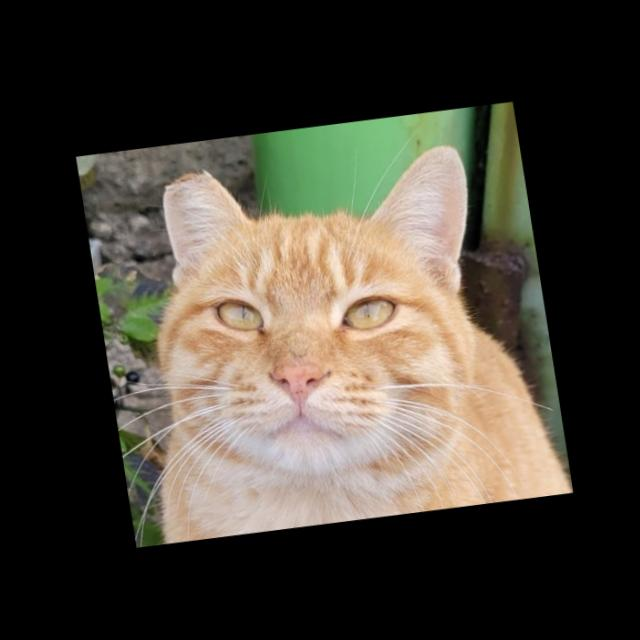animals: (124, 117, 518, 497)
